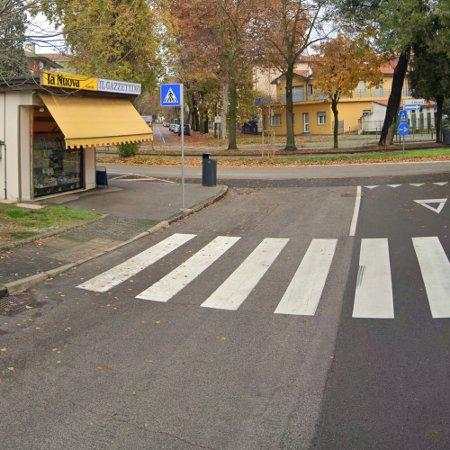crosswalks: (70, 232, 450, 319)
